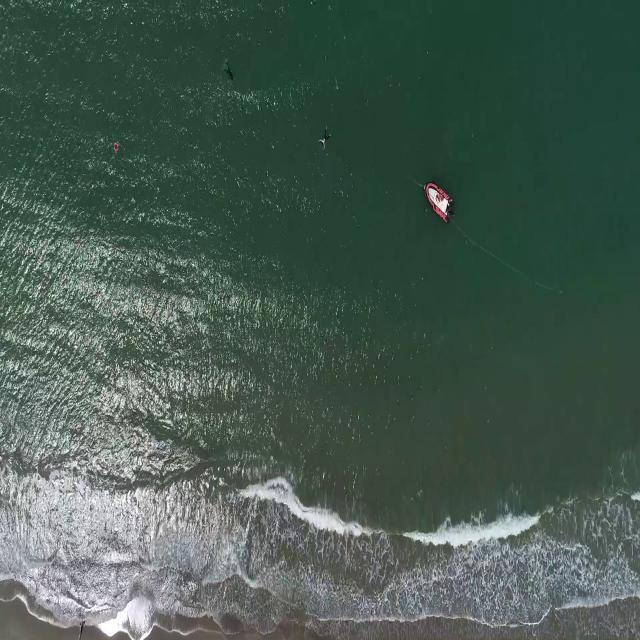boat: (426, 180, 454, 226)
life_buoy: (112, 139, 120, 151)
person: (222, 59, 237, 82), (318, 128, 332, 152)
wood: (76, 610, 87, 640)
